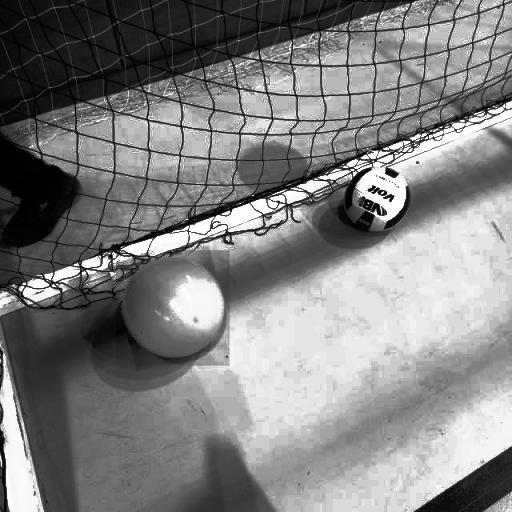balloon: (116, 251, 230, 366)
